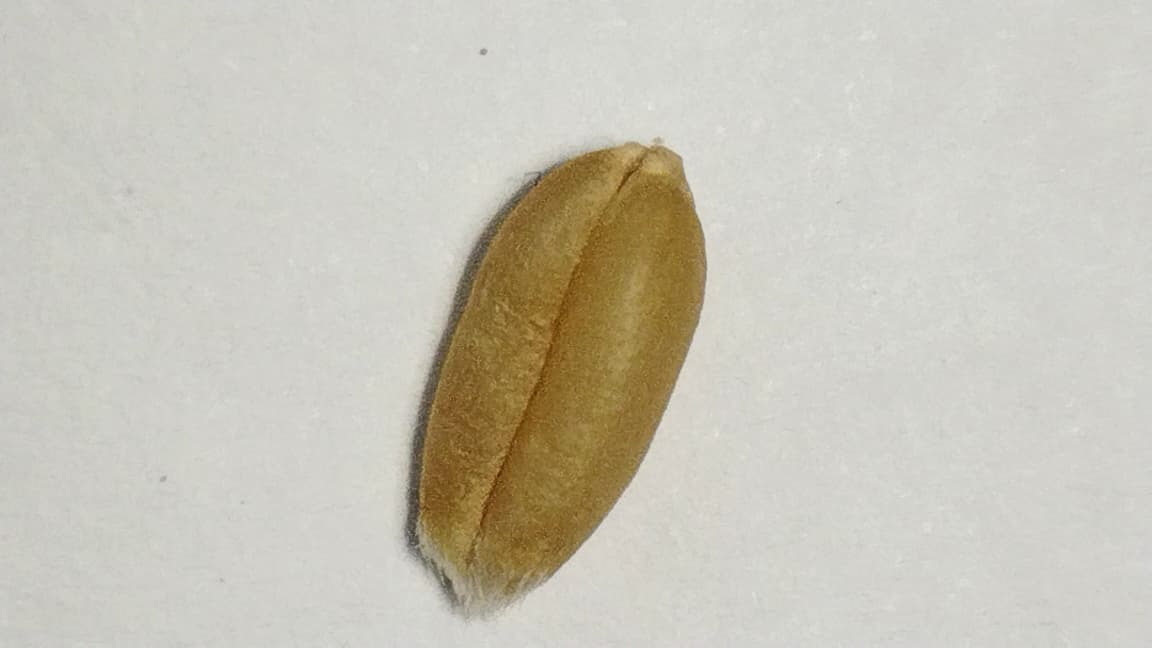healthy: (415, 144, 704, 587)
